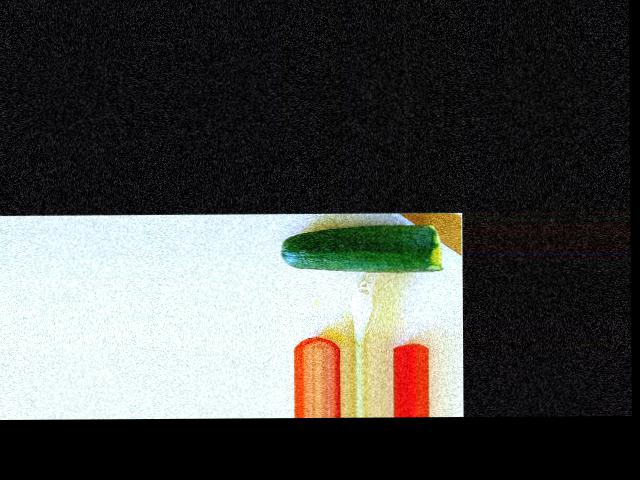cucumber: (279, 223, 443, 272)
